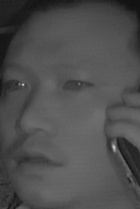eye: (60, 74, 95, 94), (5, 75, 34, 95)
mouth: (12, 143, 65, 177)
